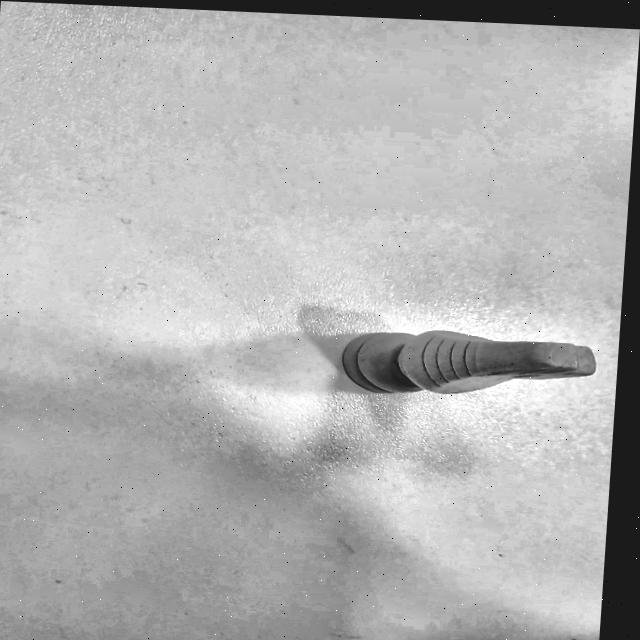white-knight: (315, 307, 620, 426)
